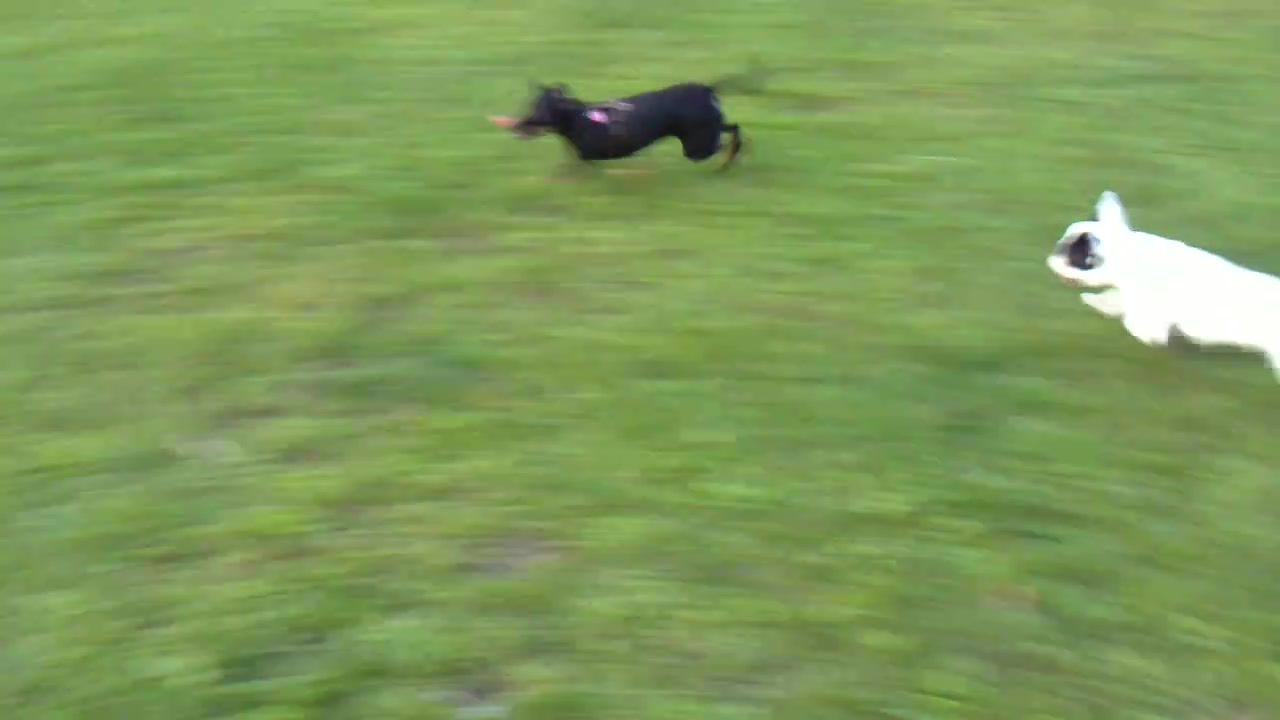dog: (1045, 189, 1280, 385), (509, 78, 749, 176)
